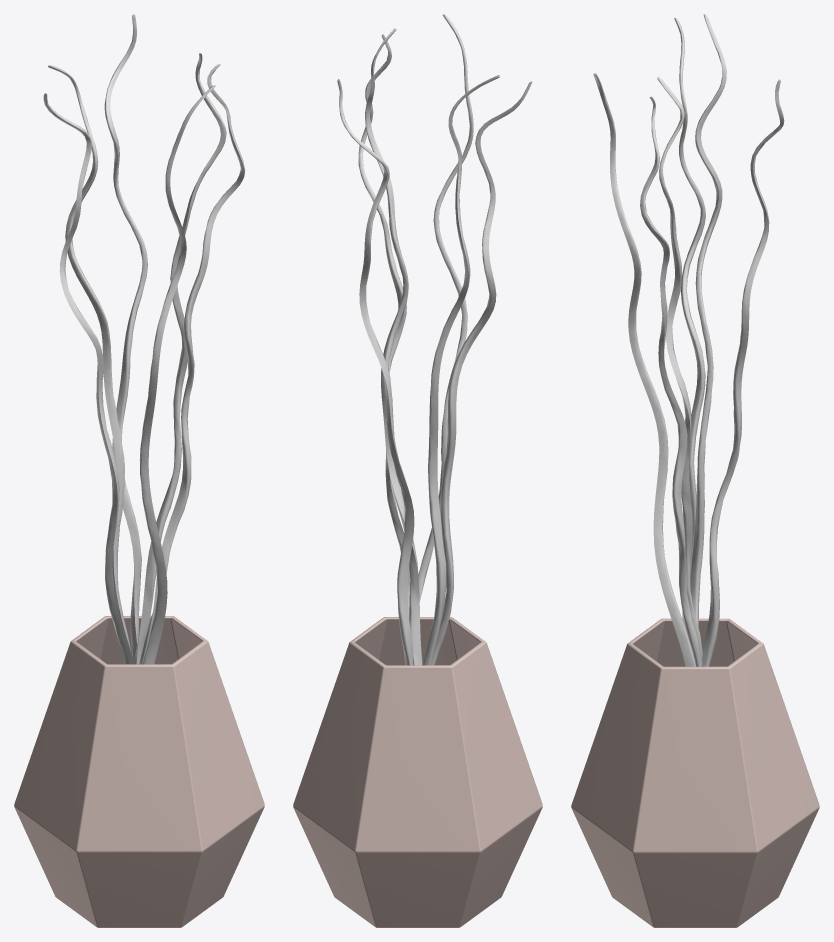
Rendered from Vase2.fbx.
3 renders of one model, left to right at view 1: azimuth 30°, elevation 25°; view 2: azimuth 150°, elevation 25°; view 3: azimuth 270°, elevation 25°, orthographic.
Parts seen in each view (by area): view 1: Vase 1, Branches; view 2: Vase 1, Branches; view 3: Vase 1, Branches.
Part boxes in pixels (bbox=[...]): Vase 1: bbox=[14, 616, 264, 927]; Branches: bbox=[43, 14, 245, 664]; Vase 1: bbox=[293, 617, 542, 927]; Branches: bbox=[337, 14, 531, 665]; Vase 1: bbox=[571, 618, 819, 927]; Branches: bbox=[593, 14, 784, 666].
Size of the model in its own units: 26.84 by 110 by 29.28.
